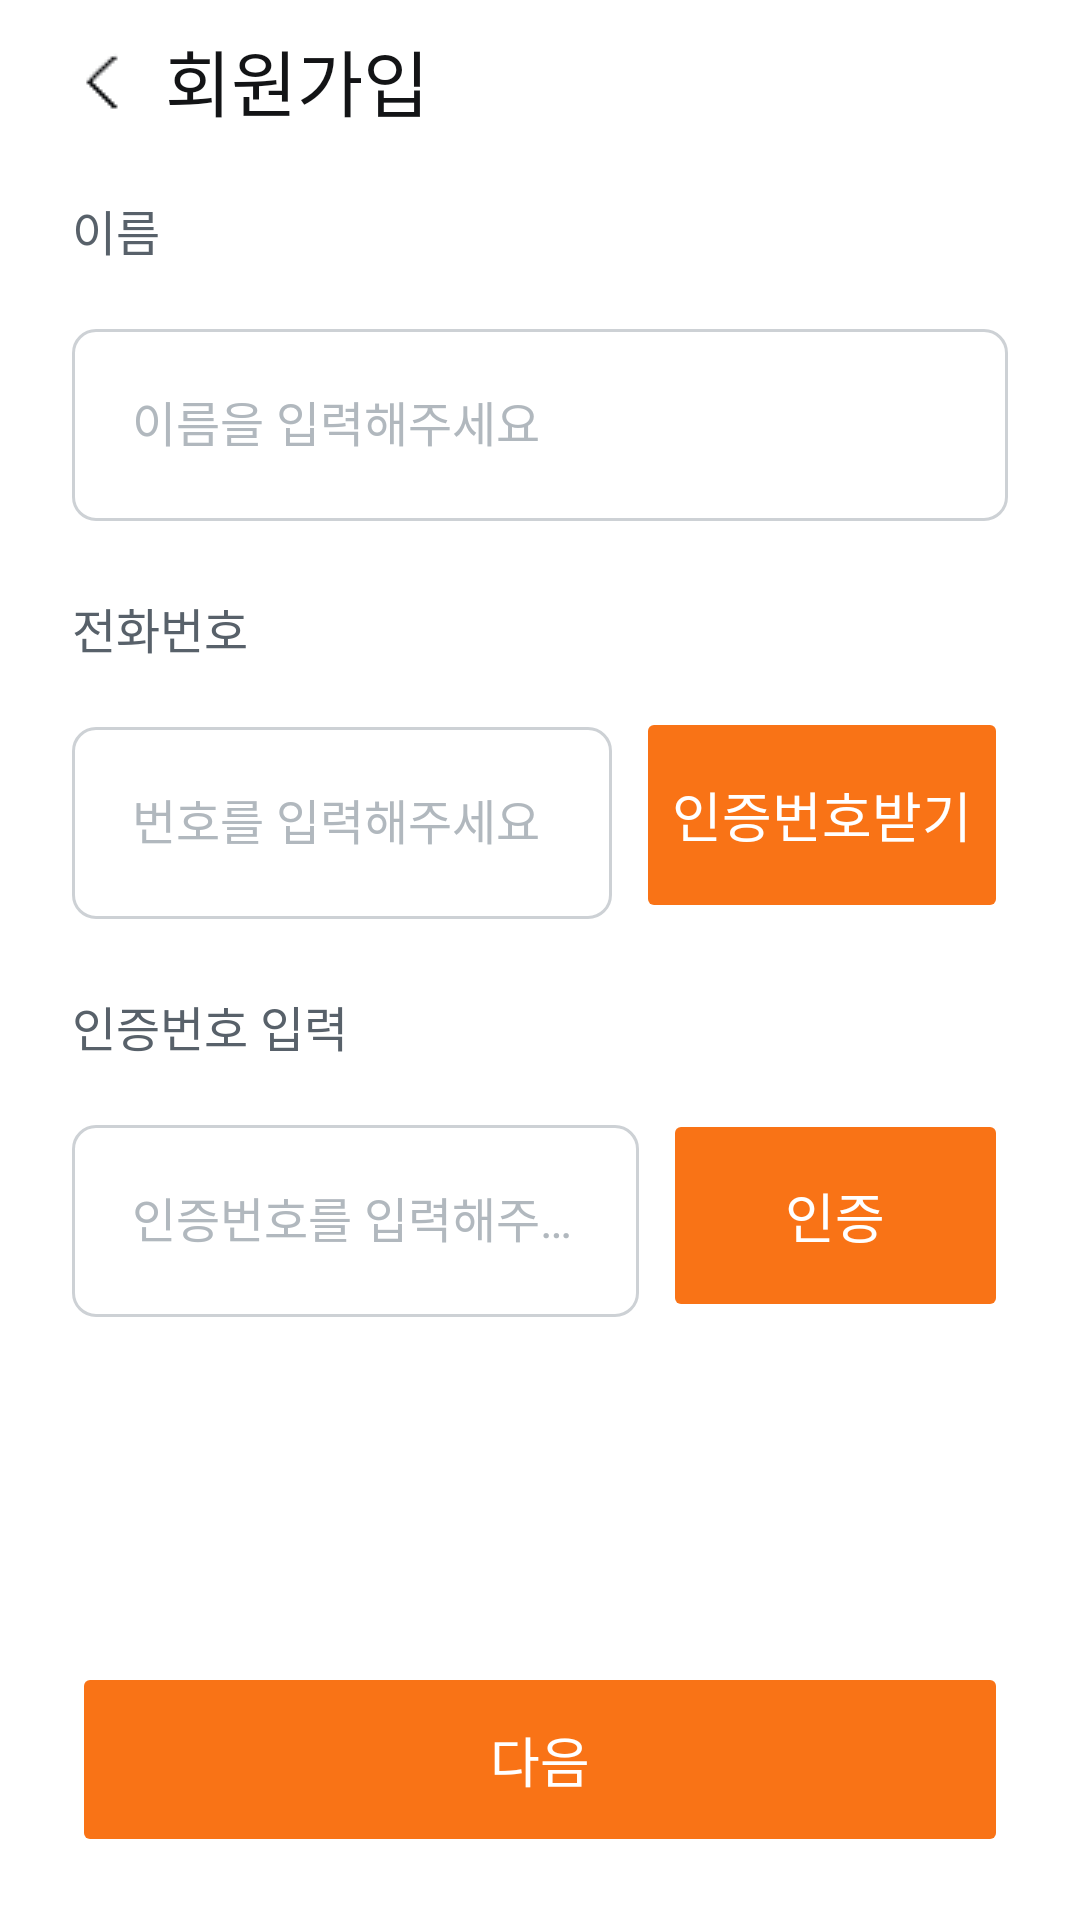

Icons on this 1080px x 1920px Android screen, each with the point to tap as [x,y]:
back: [102,82]
